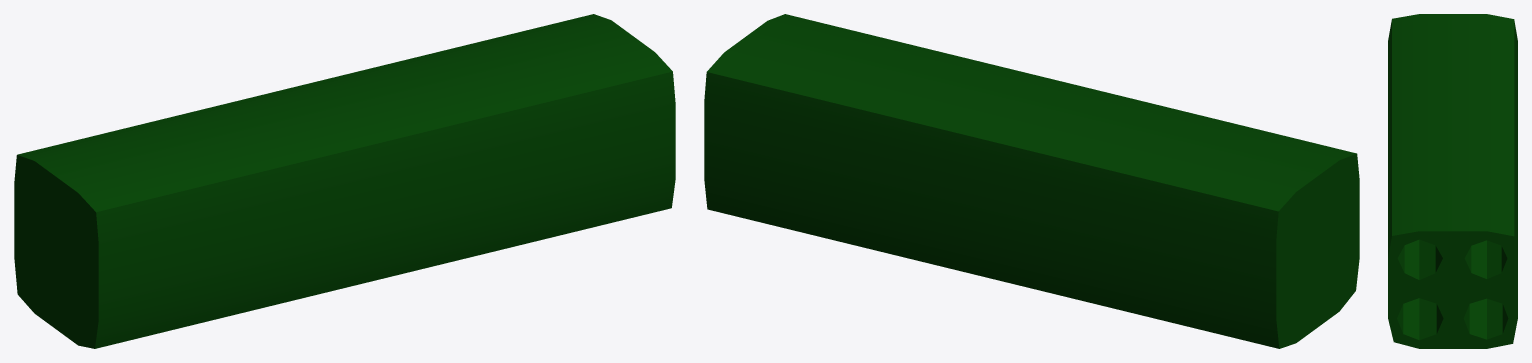
File: MS_HomingBarrel.fbx
3 views of the same model, side by side, from view 1: azimuth 30°, elevation 25°; view 2: azimuth 150°, elevation 25°; view 3: azimuth 270°, elevation 25° (orthographic). The views are drawn at different scales.
Parts seen in each view (by area): view 1: pCube1; view 2: pCube1; view 3: pCube1.
Boxes of the visible parts, x1=… form: pCube1: x1=14, y1=14, x2=675, y2=348; pCube1: x1=704, y1=14, x2=1359, y2=348; pCube1: x1=1388, y1=14, x2=1517, y2=348.
Bounding box in the file's own units: 23.95 × 6.05 × 6.05.
